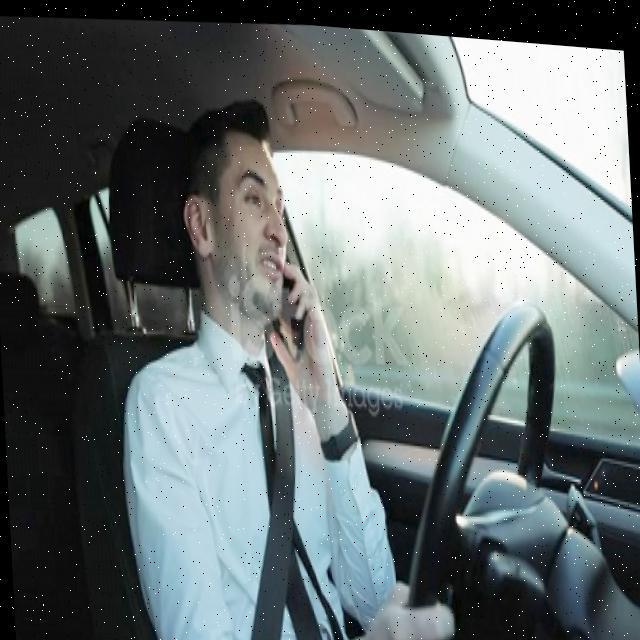PhoneCall: (266, 252, 306, 356)
